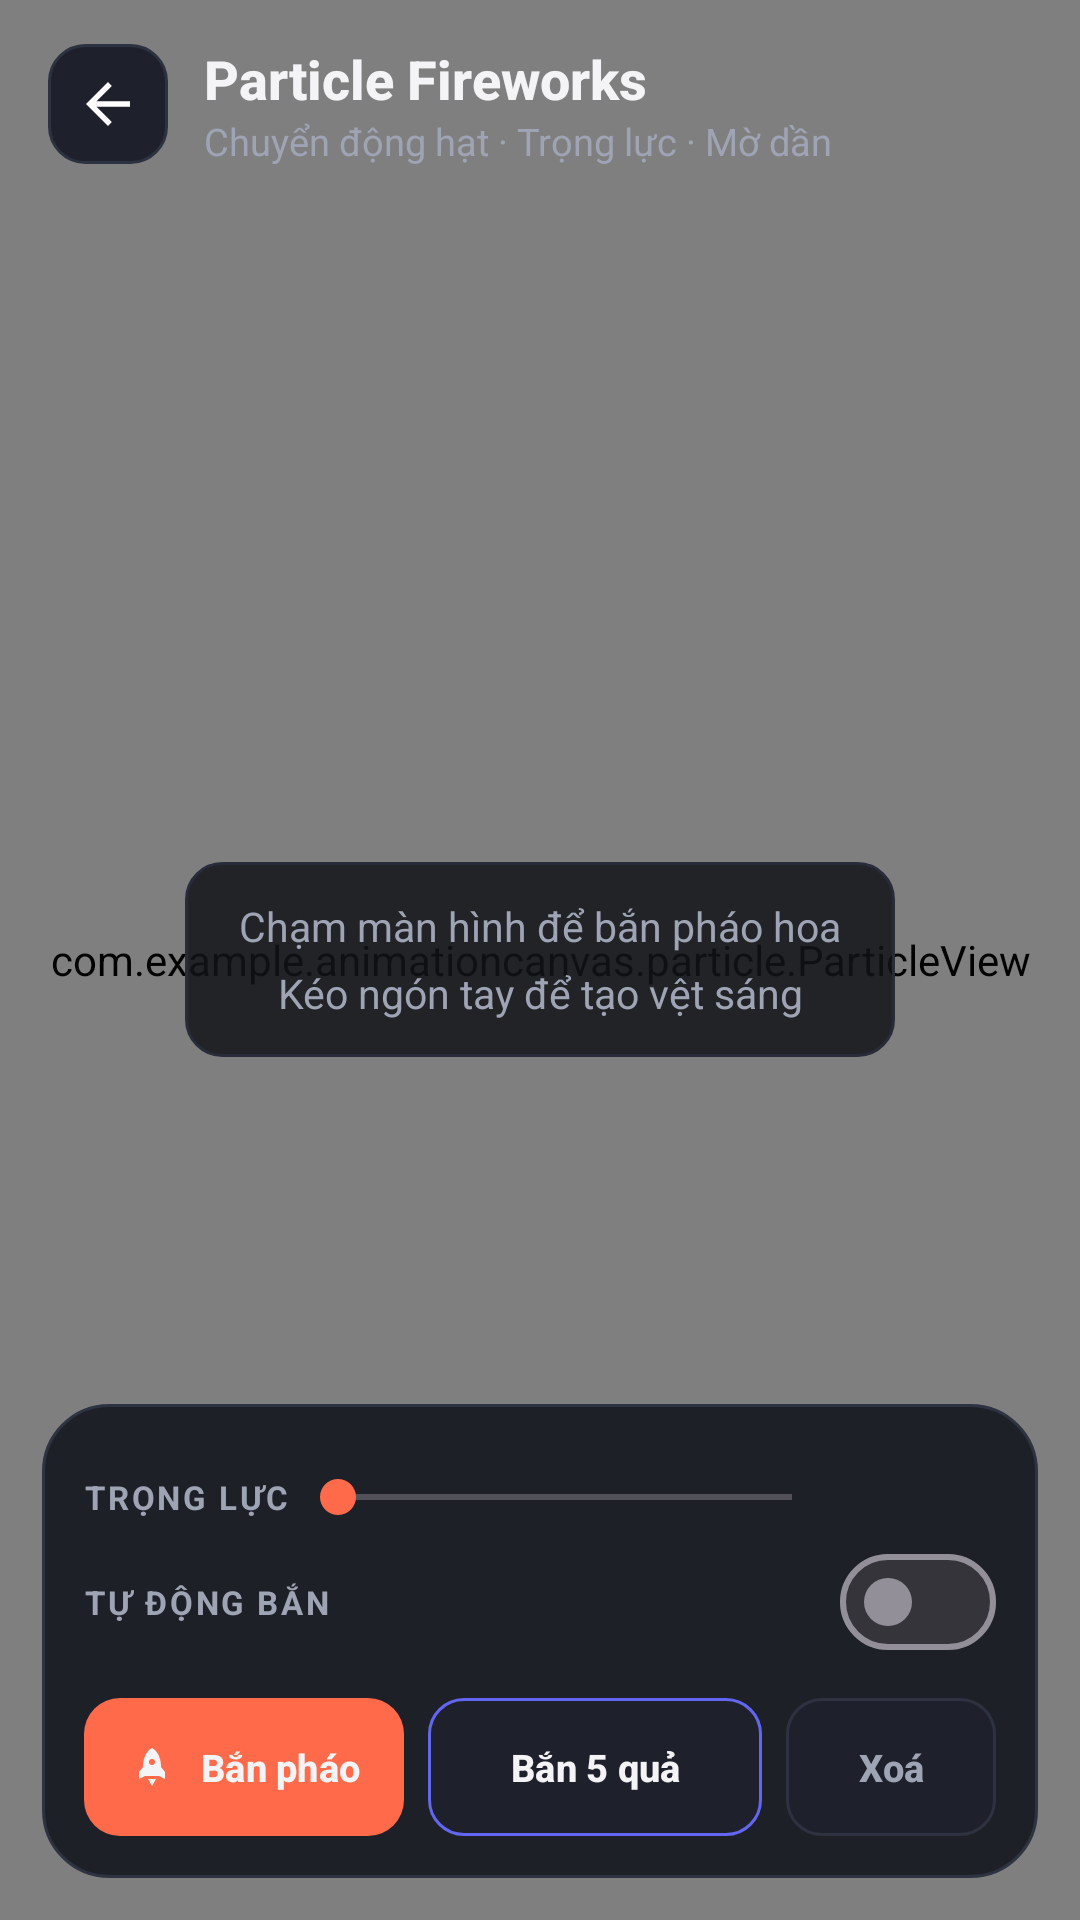

Where icons sit on this 1080px×1920px app screen, as bbox=[x1, y1, x2, y2]:
Quay lại: bbox=[48, 44, 168, 164]
